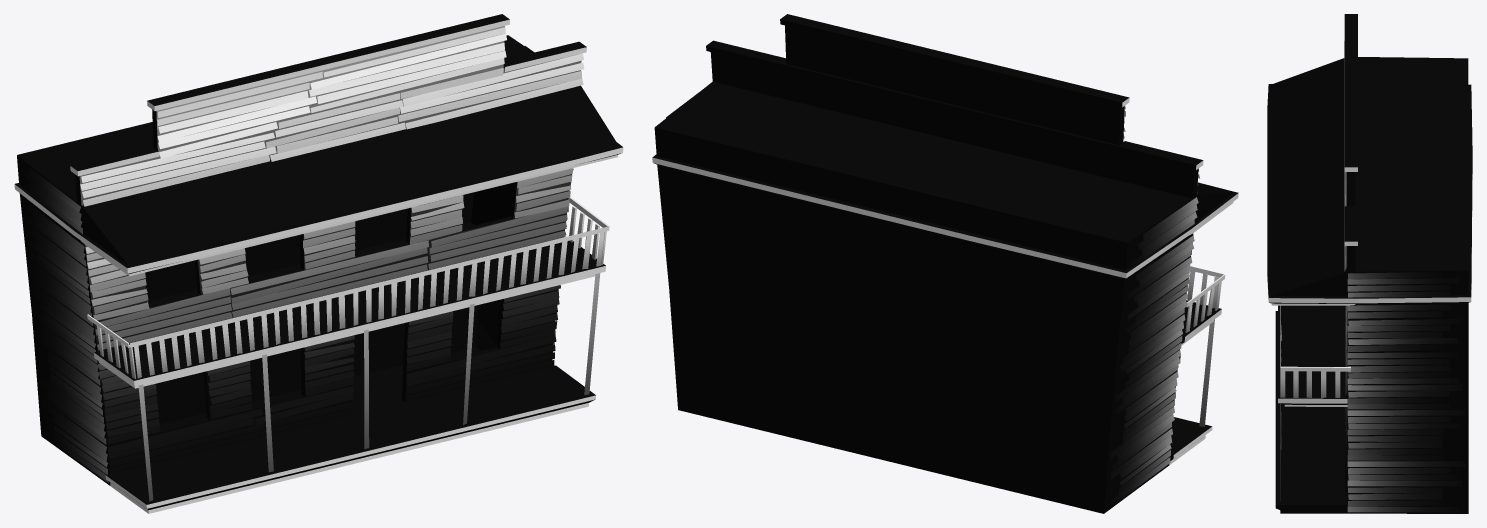
The model's file is Building6.glb.
The picture shows the model from 3 angles, left to right: view 1: azimuth 30°, elevation 25°; view 2: azimuth 150°, elevation 25°; view 3: azimuth 270°, elevation 25°; orthographic projection. The views are drawn at different scales.
Parts seen in each view (by area): view 1: Building6; view 2: Building6; view 3: Building6.
Boxes of the visible parts, bbox=[...] form: Building6: bbox=[14, 14, 623, 513]; Building6: bbox=[652, 14, 1238, 513]; Building6: bbox=[1267, 14, 1472, 513].
Size of what is drawn, in the model's own units: 19.11 by 13.3 by 7.55.
1 material, 1 textured.
